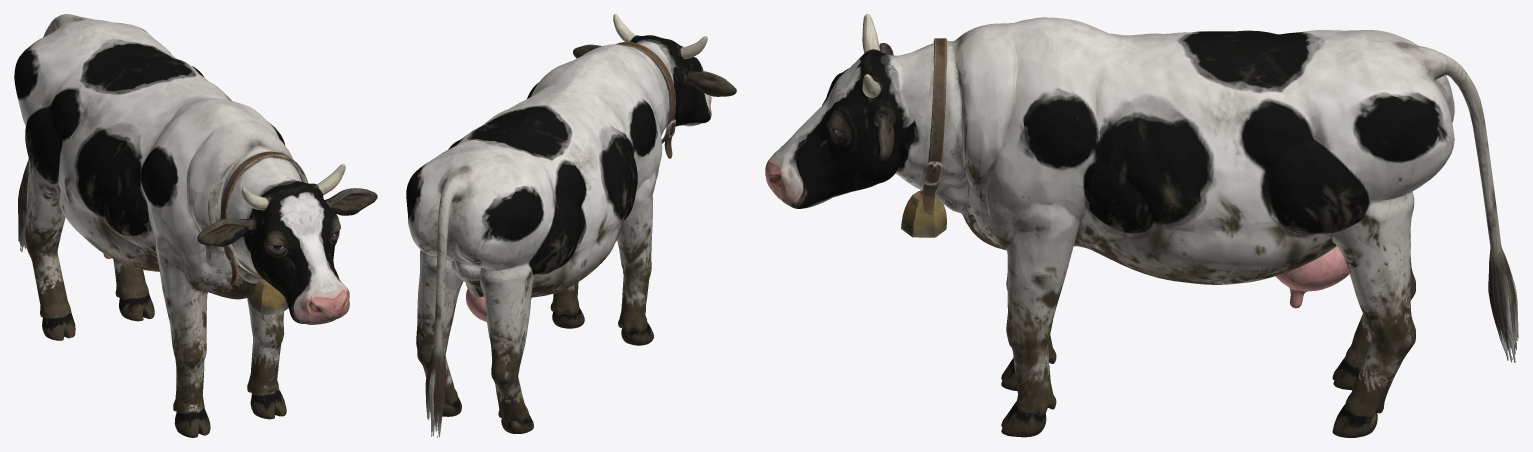
Rendered from cow.glb.
3 renders of one model, left to right at view 1: azimuth 30°, elevation 25°; view 2: azimuth 150°, elevation 25°; view 3: azimuth 270°, elevation 25°, orthographic. The views are drawn at different scales.
Size of the model in its own units: 0.6481 by 1.07 by 1.89.
1 material, 1 textured.
